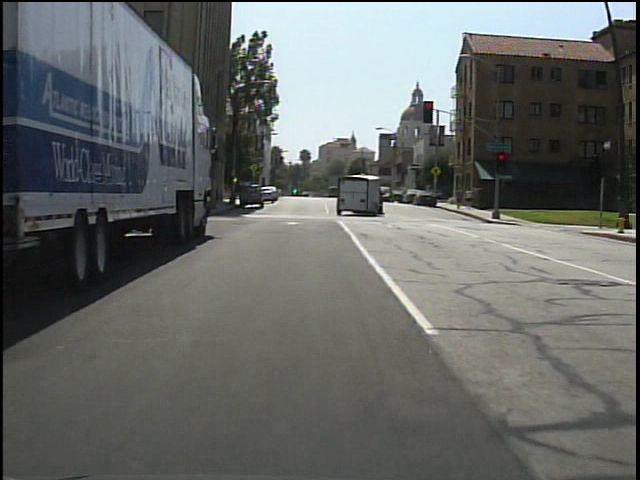person: (464, 186, 477, 211), (454, 185, 466, 210)
